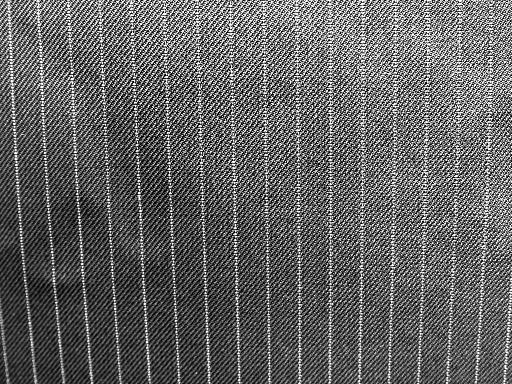fabric_perfect: (3, 3, 511, 378)
